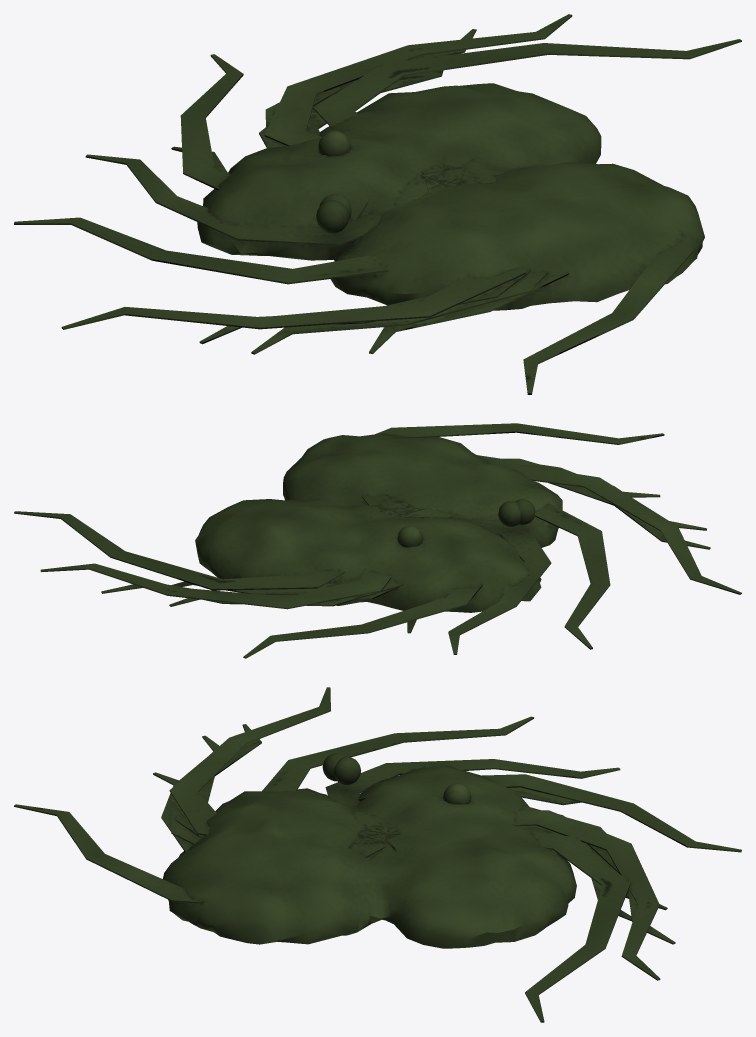
File: costa_alga_b.glb
The picture shows the model from 3 angles, top to bottom: view 1: azimuth 30°, elevation 25°; view 2: azimuth 150°, elevation 25°; view 3: azimuth 270°, elevation 25°; orthographic projection. The views are drawn at different scales.
Visible parts, largest first — view 1: costa_alga_b; view 2: costa_alga_b; view 3: costa_alga_b.
Part boxes in pixels (x1,y1,x2,y2): costa_alga_b: (14, 14, 741, 394); costa_alga_b: (14, 423, 741, 658); costa_alga_b: (14, 687, 741, 1022).
Size of the model in its own units: 2.22 by 0.18 by 2.04.
1 material, 1 textured.
